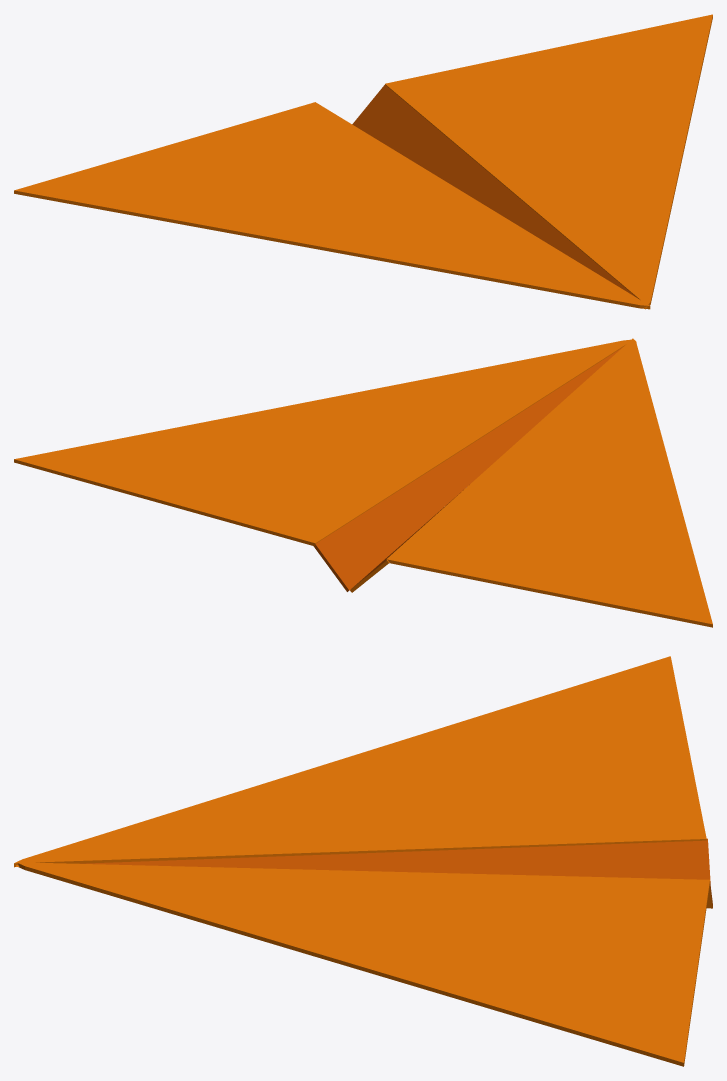
File: movingPlat.fbx
3 views of the same model, one above another, from view 1: azimuth 30°, elevation 25°; view 2: azimuth 150°, elevation 25°; view 3: azimuth 270°, elevation 25° (orthographic). The views are drawn at different scales.
Visible parts, largest first — view 1: MovingPlat; view 2: MovingPlat; view 3: MovingPlat.
Boxes of the visible parts, box(x1,y1,x2,y2) form: MovingPlat: box(14, 14, 712, 309); MovingPlat: box(14, 338, 712, 627); MovingPlat: box(14, 656, 712, 1066).
Size of the model in its own units: 294 by 16.23 by 213.
1 material, 1 textured.
